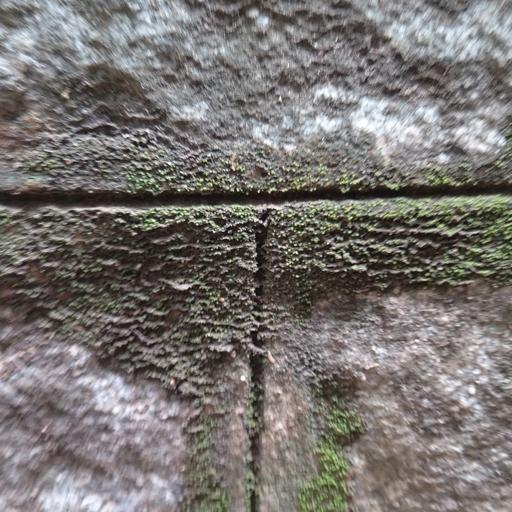algae: (10, 135, 512, 413)
